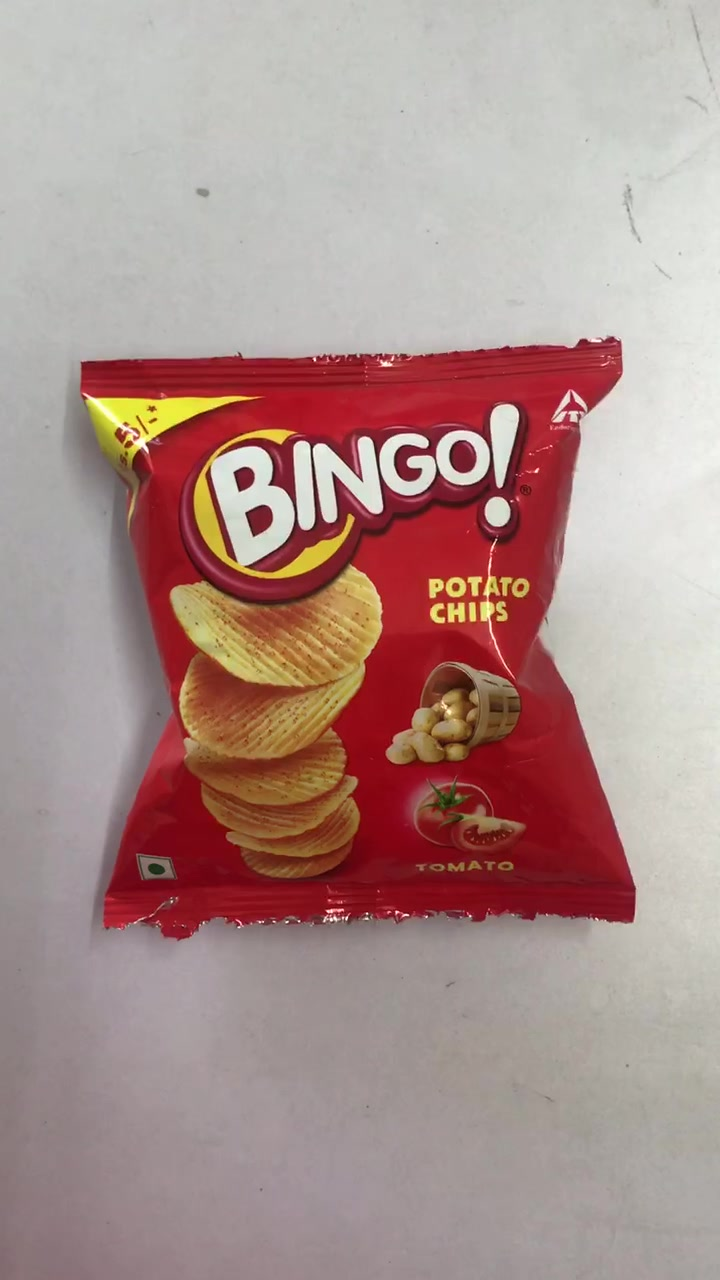Bingo: (83, 356, 638, 913)
